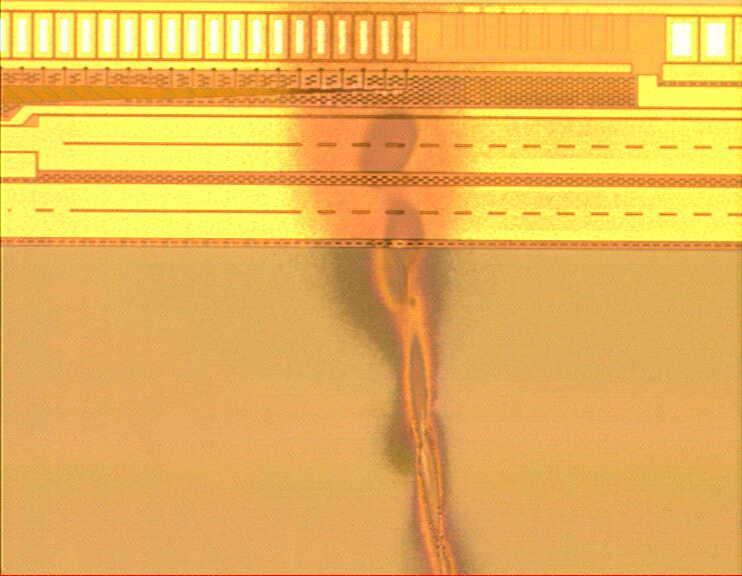BLOCK ETCH: (269, 1, 486, 576)
